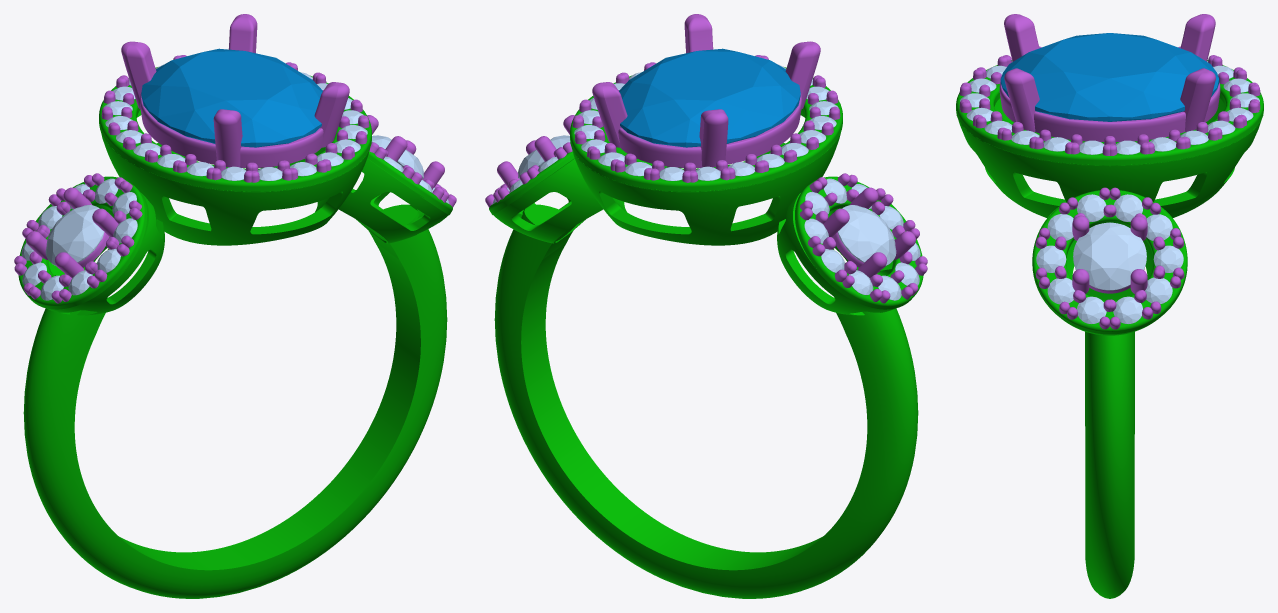
The picture shows the model from 3 angles, left to right: view 1: azimuth 30°, elevation 25°; view 2: azimuth 150°, elevation 25°; view 3: azimuth 270°, elevation 25°; orthographic projection.
Parts seen in each view (by area): view 1: editadoANILLO OSWALDO 10 1-2.3dm, Diamond_Oval, Head Prong (×4), Head Rail, Diamond_Round; view 2: editadoANILLO OSWALDO 10 1-2.3dm, Diamond_Oval, Head Prong (×4), Head Rail, Diamond_Round; view 3: editadoANILLO OSWALDO 10 1-2.3dm, Diamond_Oval, GemOnCrv (×10), Head Prong (×4), Diamond_Round, Head Rail.
Part boxes in pixels (left/top/right/bottom): editadoANILLO OSWALDO 10 1-2.3dm: left=18, top=67, right=452, bottom=598; Diamond_Oval: left=141, top=48, right=322, bottom=147; Head Prong (×4): left=121, top=14, right=349, bottom=167; Head Rail: left=140, top=92, right=323, bottom=167; Diamond_Round: left=45, top=205, right=104, bottom=265; editadoANILLO OSWALDO 10 1-2.3dm: left=489, top=67, right=923, bottom=598; Diamond_Oval: left=619, top=48, right=800, bottom=147; Head Prong (×4): left=592, top=14, right=820, bottom=167; Head Rail: left=618, top=93, right=801, bottom=167; Diamond_Round: left=837, top=205, right=896, bottom=265; editadoANILLO OSWALDO 10 1-2.3dm: left=956, top=60, right=1263, bottom=598; Diamond_Oval: left=1000, top=33, right=1219, bottom=121; GemOnCrv (×10): left=1036, top=194, right=1183, bottom=324; Head Prong (×4): left=1004, top=14, right=1215, bottom=132; Diamond_Round: left=1073, top=222, right=1146, bottom=290; Head Rail: left=999, top=82, right=1220, bottom=141.
Bounding box in the file's own units: 2.37 × 2.85 × 1.49.
